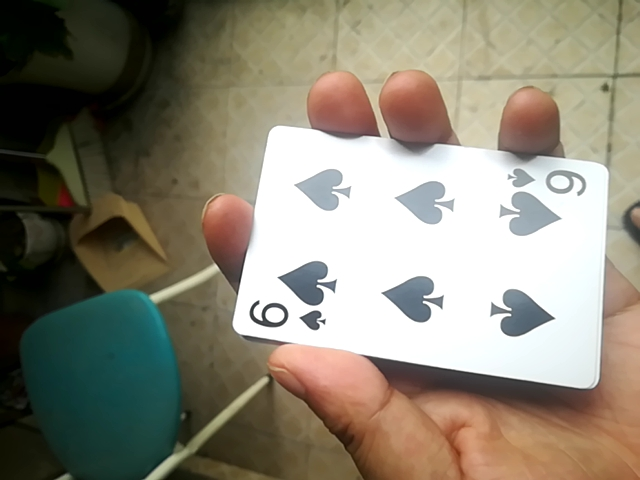ht 6: (236, 140, 611, 386)
